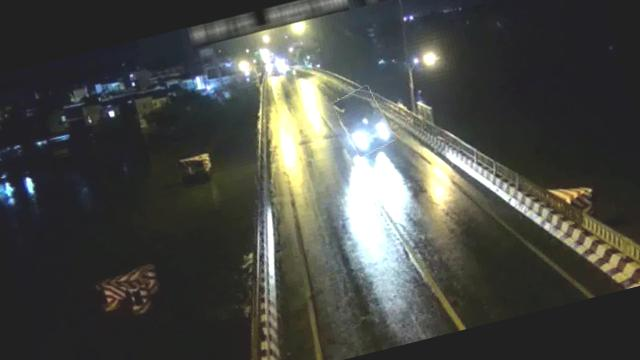Truck: (332, 85, 393, 159)
